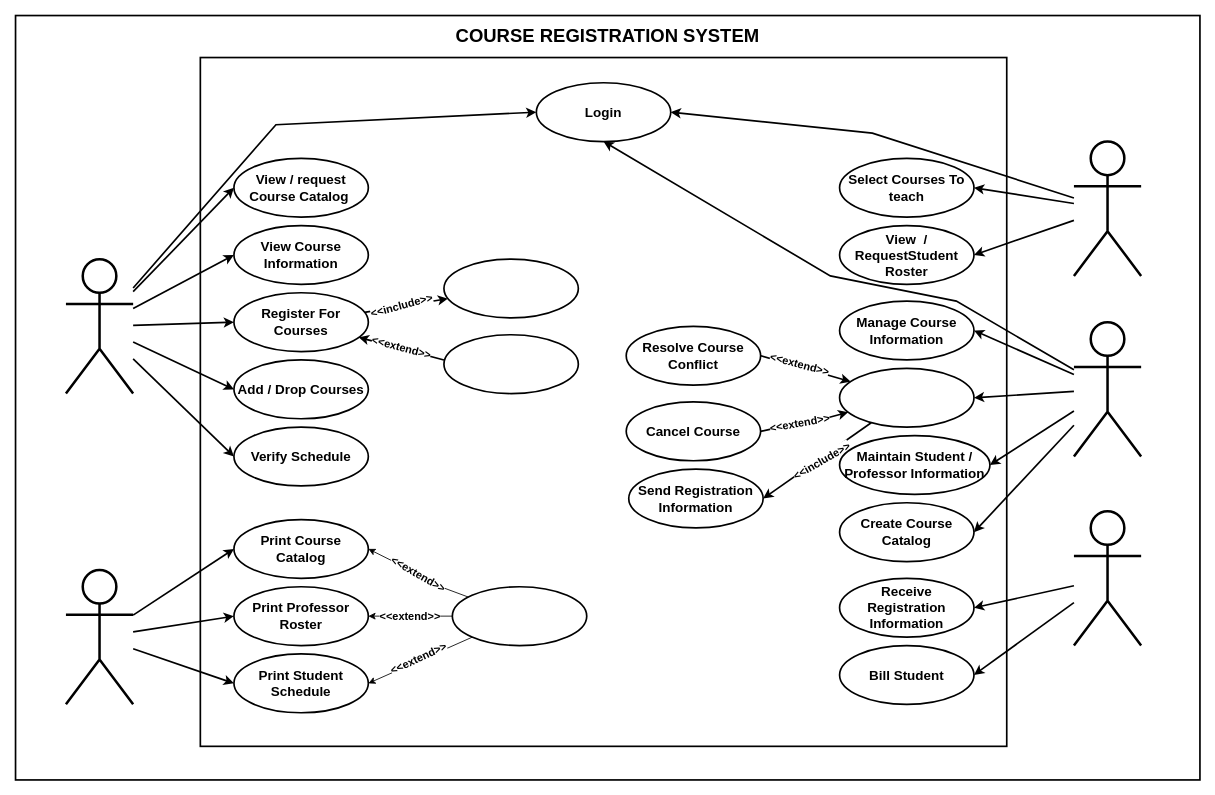
The diagram is 1215 pixels wide and 795 high, and some of its shapes have lost their labels. The centre of each missing label's shape, as x and y in pixels:
BILLING SYSTEM: point 1107,577
Error if paper jammed: point 519,615
PRINTER: point 99,636
Process Registration: point 906,397
PROFESSOR: point 1107,208
REGISTRAR: point 1107,388
Select 2 alternative courses: point 511,363
Select 4 Courses: point 511,288
STUDENT: point 99,325
